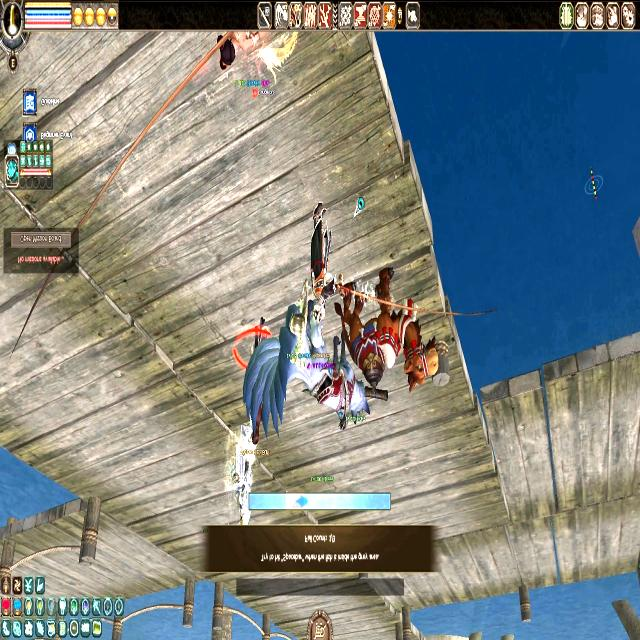fishes: (297, 494, 308, 508)
